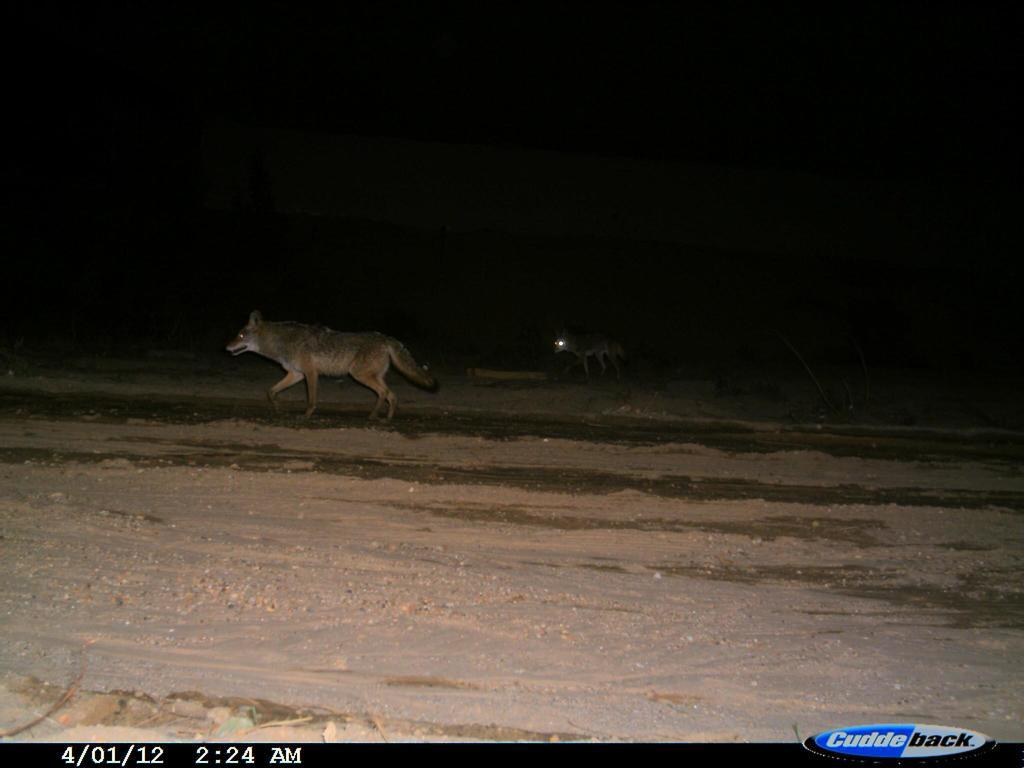coyote: (218, 287, 450, 425), (539, 317, 652, 385)
